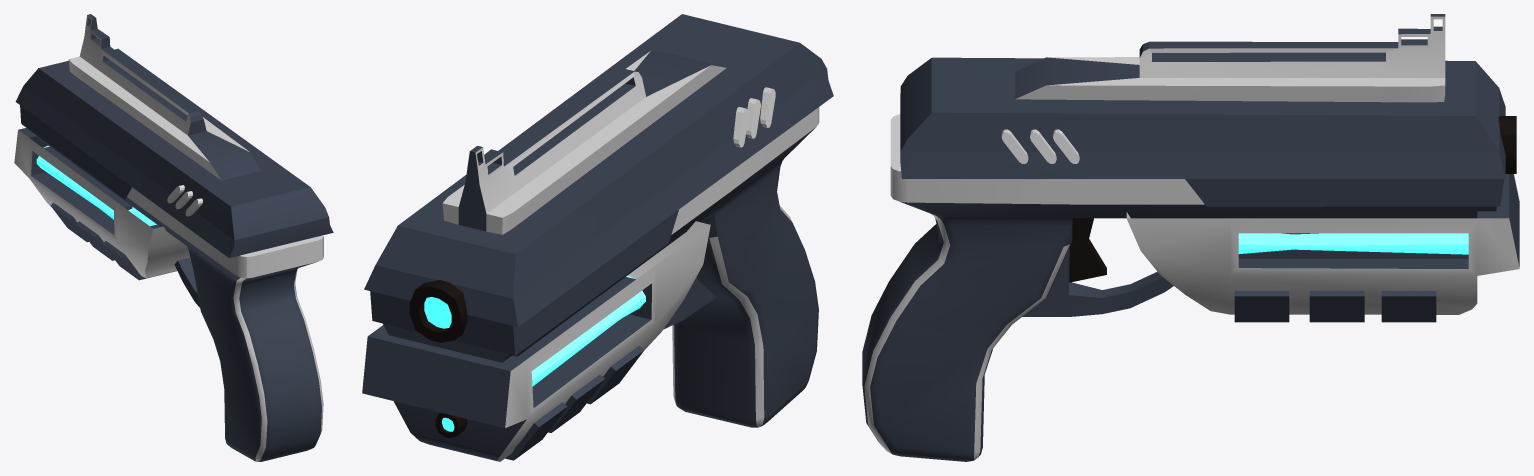
File: ArmaCorta.fbx
The picture shows the model from 3 angles, left to right: view 1: azimuth 30°, elevation 25°; view 2: azimuth 150°, elevation 25°; view 3: azimuth 270°, elevation 25°; orthographic projection. The views are drawn at different scales.
Visible parts, largest first — view 1: Azul, Cuerpo, MiraYcuerpoAbajo, Detalles; view 2: Azul, MiraYcuerpoAbajo, Cuerpo, Detalles; view 3: Azul, MiraYcuerpoAbajo, Cuerpo, Detalles.
Boxes of the visible parts, box(x1,y1,x2,y2) form: Azul: box(15, 48, 333, 280); Cuerpo: box(37, 136, 323, 461); MiraYcuerpoAbajo: box(14, 14, 260, 278); Detalles: box(36, 145, 202, 307); Azul: box(364, 14, 833, 460); MiraYcuerpoAbajo: box(362, 50, 726, 461); Cuerpo: box(382, 107, 819, 427); Detalles: box(409, 87, 775, 437); Azul: box(900, 57, 1505, 322); MiraYcuerpoAbajo: box(1015, 14, 1519, 314); Cuerpo: box(862, 114, 1496, 461); Detalles: box(1001, 116, 1516, 316).
Size of the model in its own units: 69.06 by 192 by 267.
